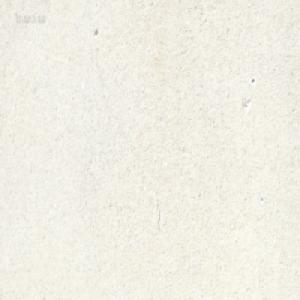Wrench: (161, 0, 168, 4)
